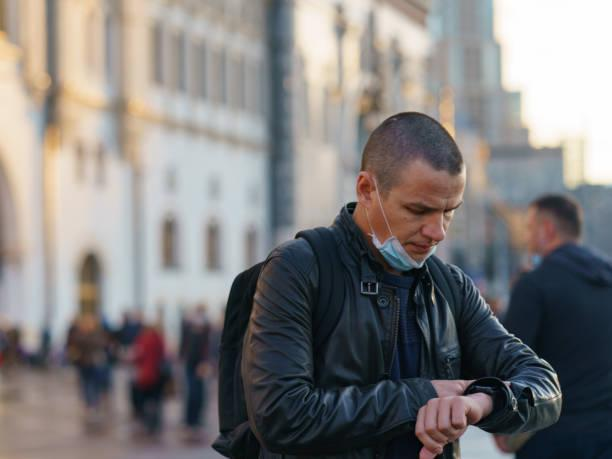mask_weared_incorrect: (369, 145, 469, 279)
